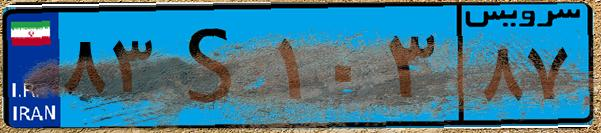0: (330, 28, 385, 110)
1: (270, 28, 330, 110)
3: (385, 28, 445, 110), (110, 28, 158, 98)
7: (525, 38, 570, 115)
8: (57, 26, 110, 100), (475, 38, 525, 113)
S: (158, 12, 270, 120)
